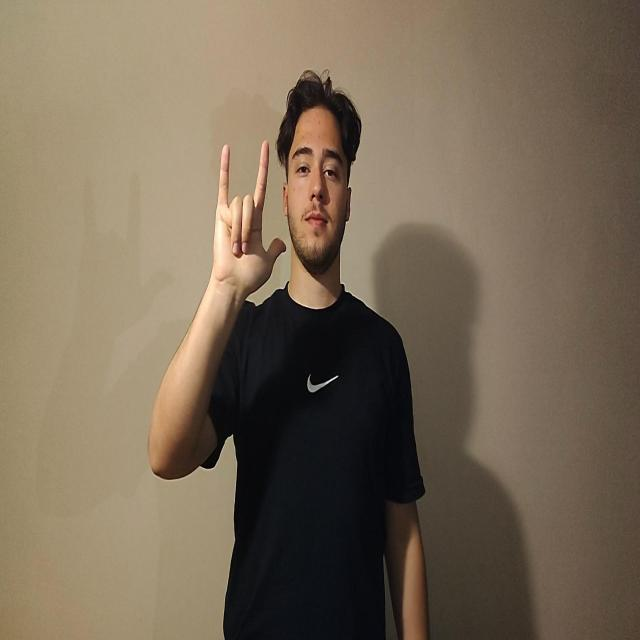iloveyou: (212, 139, 286, 300)
